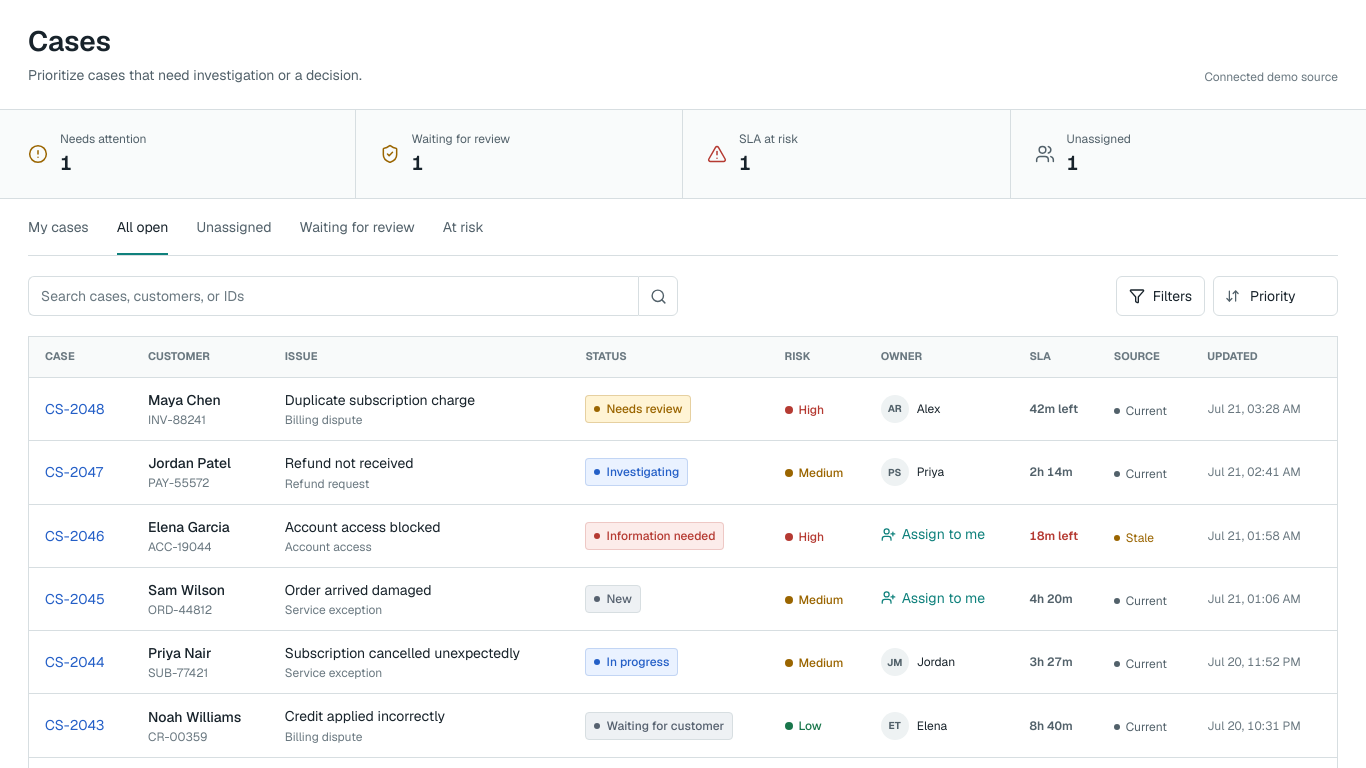
Test case: CaseQueue › assigns an unassigned case only after the command succeeds
Click the button "Assign to me" in the row of "CS-2046".
click(933, 534)  # box [881,524,985,544]
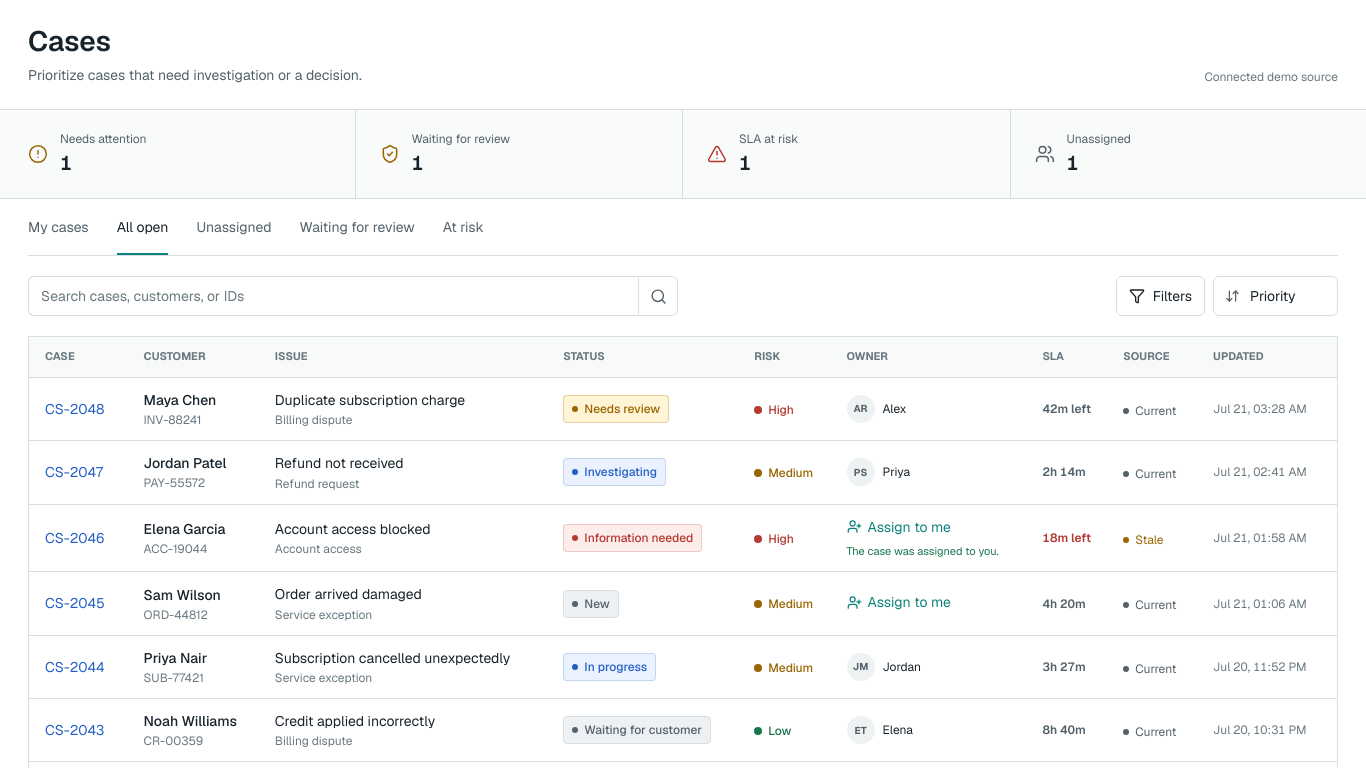
Check: the link "CS-2046" is shown, box [45,529,104,547]
Check: the message shows "assigned to you", box [846,544,999,558]
